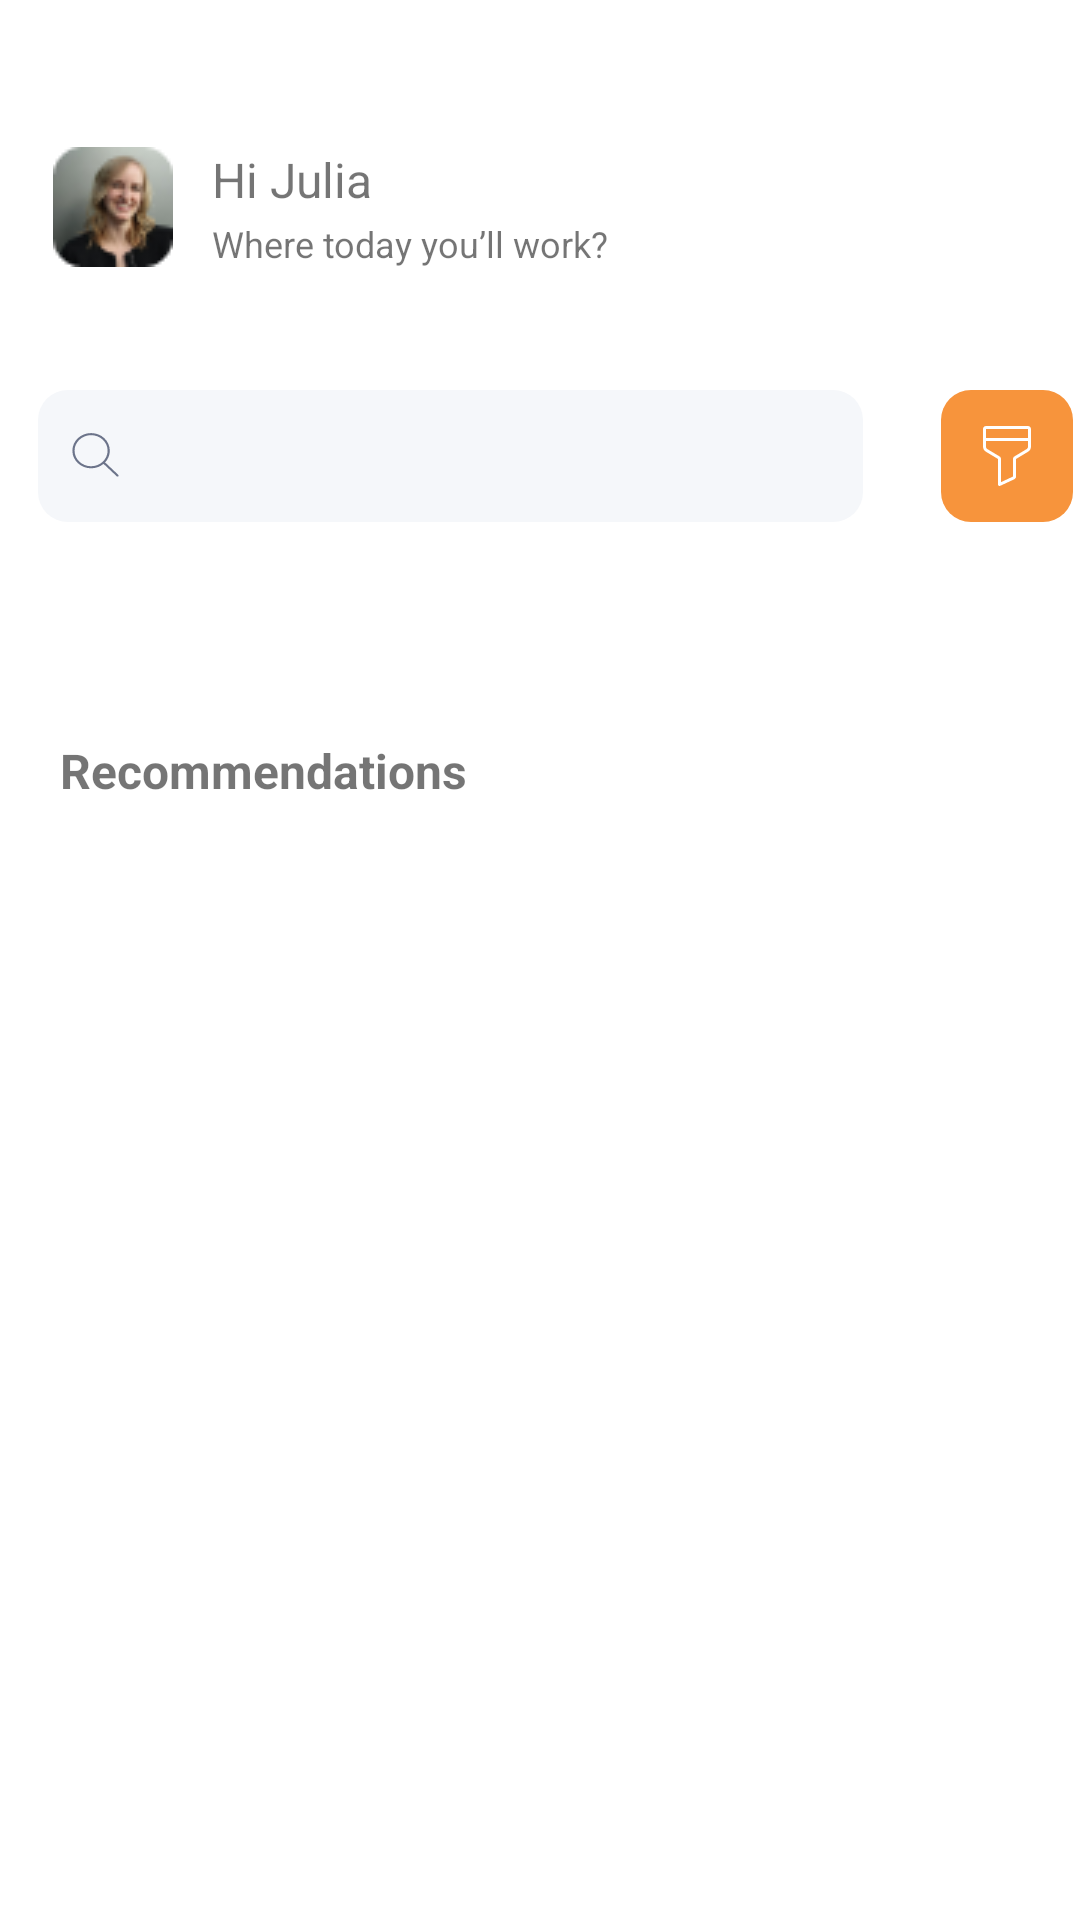

Screen size 1080 × 1920. Icon name, then its center in pixels as point (x, y):
filtericon: point (1007, 456)
